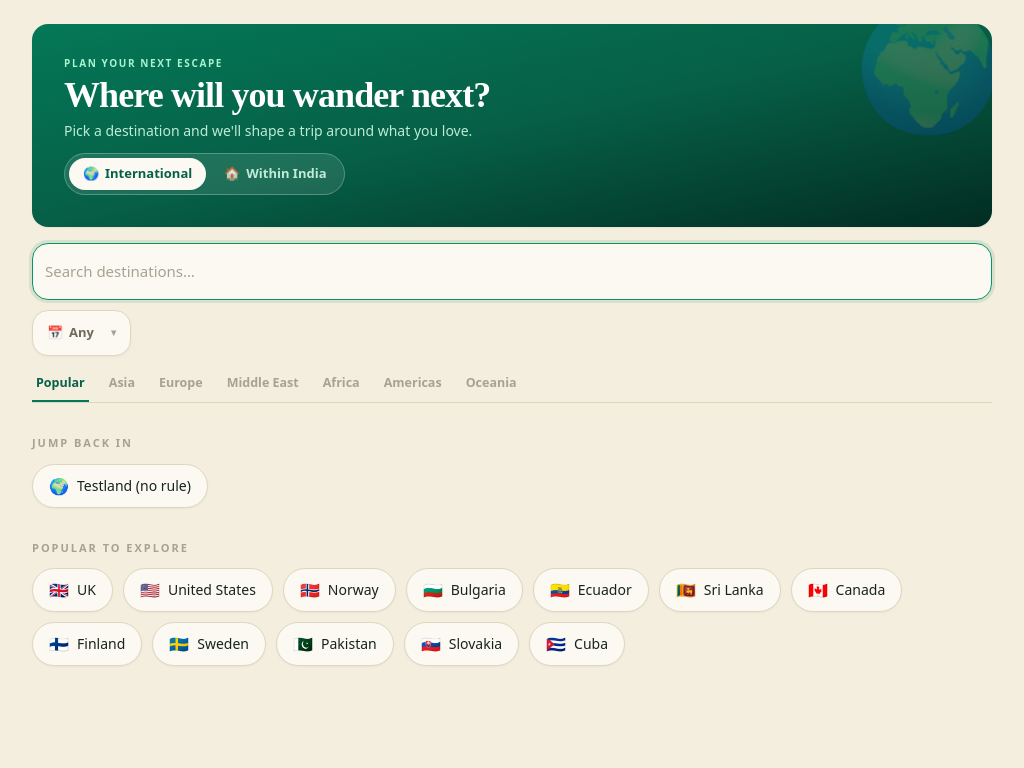
PlanView — guided planner › walks the funnel and reveals the itinerary on the review step
This screenshot has width=1024, height=768.
Click the button "🌍 Testland (no rule)": (120, 486) [32,464,208,508]
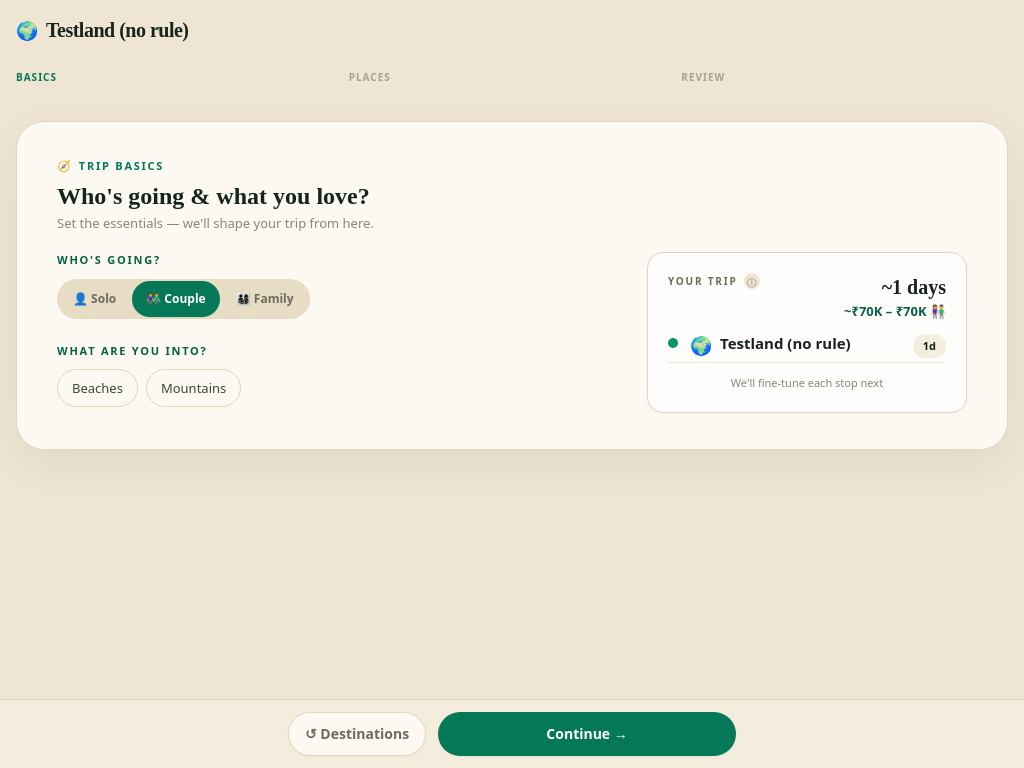
Expected: the text "Who's going?" is shown, [57,252,161,267]
Click the button "Continue →": (587, 734) [438,712,736,756]
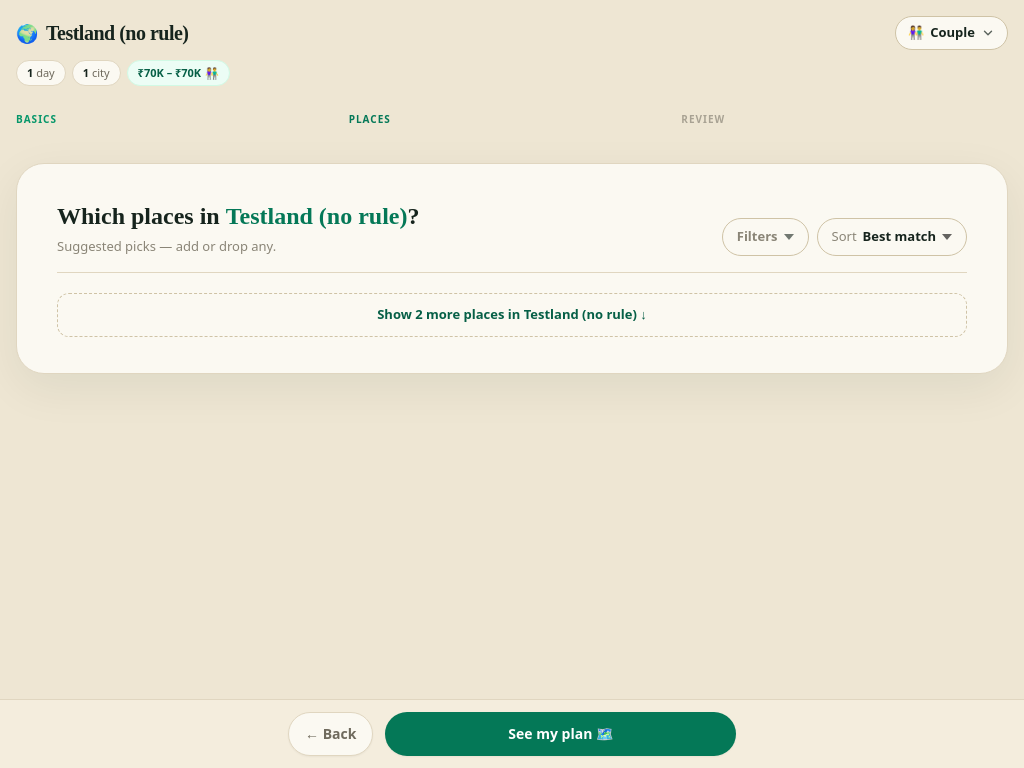
Click the button "See my plan 🗺️": (561, 734) [385,712,736,756]
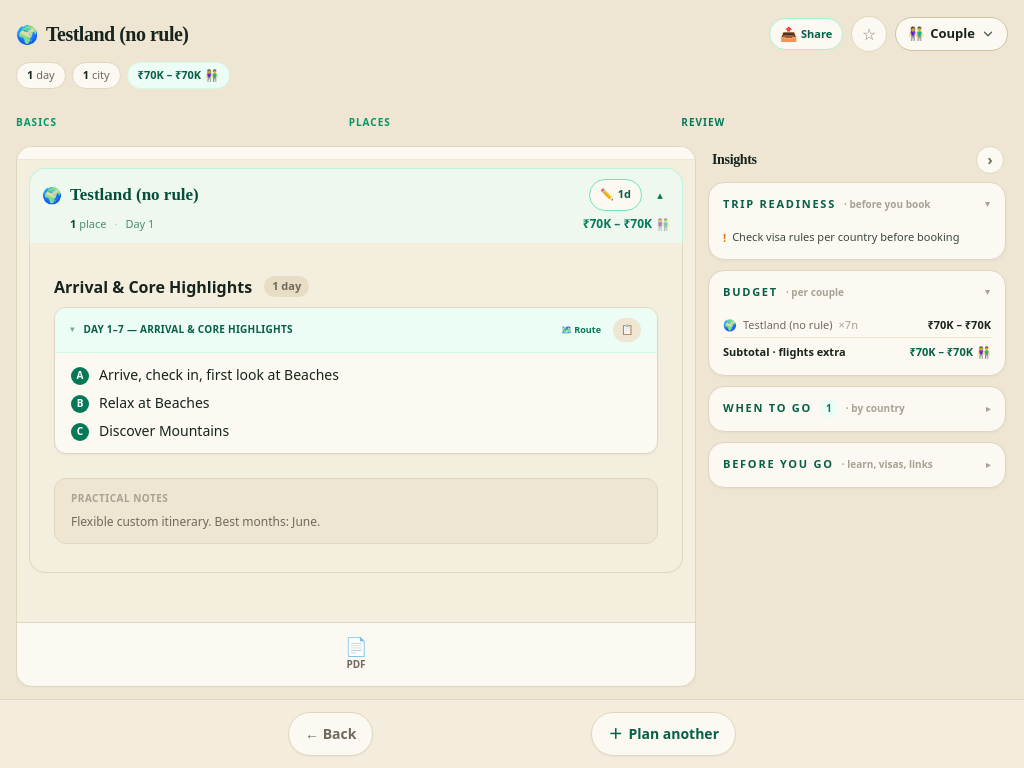
Expected: the button with aria-label "Share your trip plan" is shown, [769,18,843,50]
